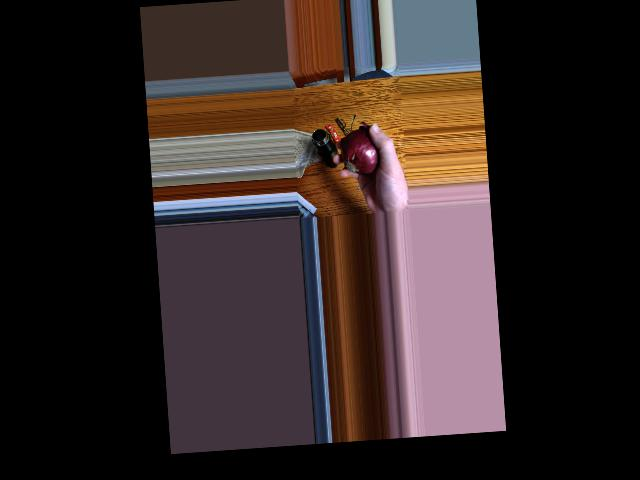onion: (345, 132, 385, 173)
